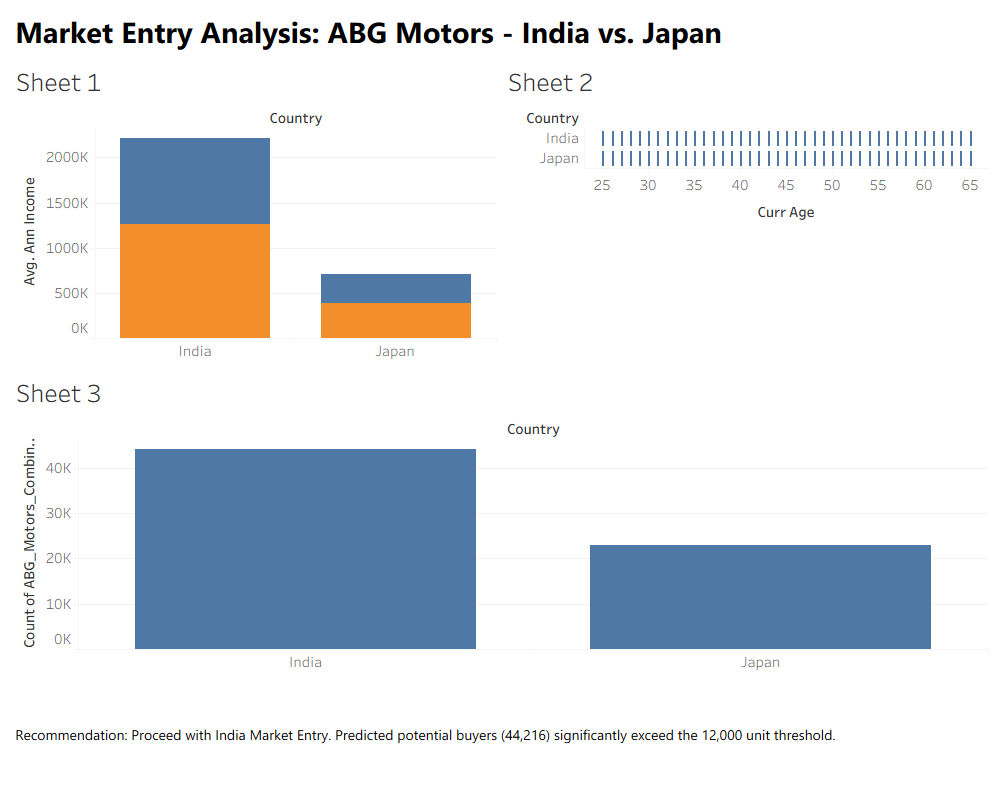

This screenshot's page, from the dashboard's own definition file:
{"tool":"tableau","page":{"name":"Dashboard 1","canvas":[1000,800],"ordinal":0},"visuals":[{"type":"title","box":[8,8,984,47]},{"type":"dashboard-object","box":[50,50,164,52]},{"type":"worksheet","title":"Sheet 1","mark":"Automatic","rows":["ANN_INCOME"],"cols":["COUNTRY"],"box":[8,55,492,311]},{"type":"worksheet","title":"Sheet 2","mark":"Automatic","rows":["COUNTRY"],"cols":["CURR_AGE"],"box":[500,55,492,311]},{"type":"worksheet","title":"Sheet 3","mark":"Automatic","rows":["ABG_Motors_Combined_Market_Data.csv_EFF1F063A8654306B1D1F0CB"],"cols":["COUNTRY"],"box":[8,366,984,311]},{"type":"text","box":[8,677,984,115]}]}

Visuals, with their boxes in screenshot pixels (x1, y1, x2, y2), scaled from the page's 1000x800 canvas onto the 1000x800 screenshot:
title: <bbox>8, 8, 992, 55</bbox>
dashboard-object: <bbox>50, 50, 214, 102</bbox>
"Sheet 1" worksheet: <bbox>8, 55, 500, 366</bbox>
"Sheet 2" worksheet: <bbox>500, 55, 992, 366</bbox>
"Sheet 3" worksheet: <bbox>8, 366, 992, 677</bbox>
text: <bbox>8, 677, 992, 792</bbox>
